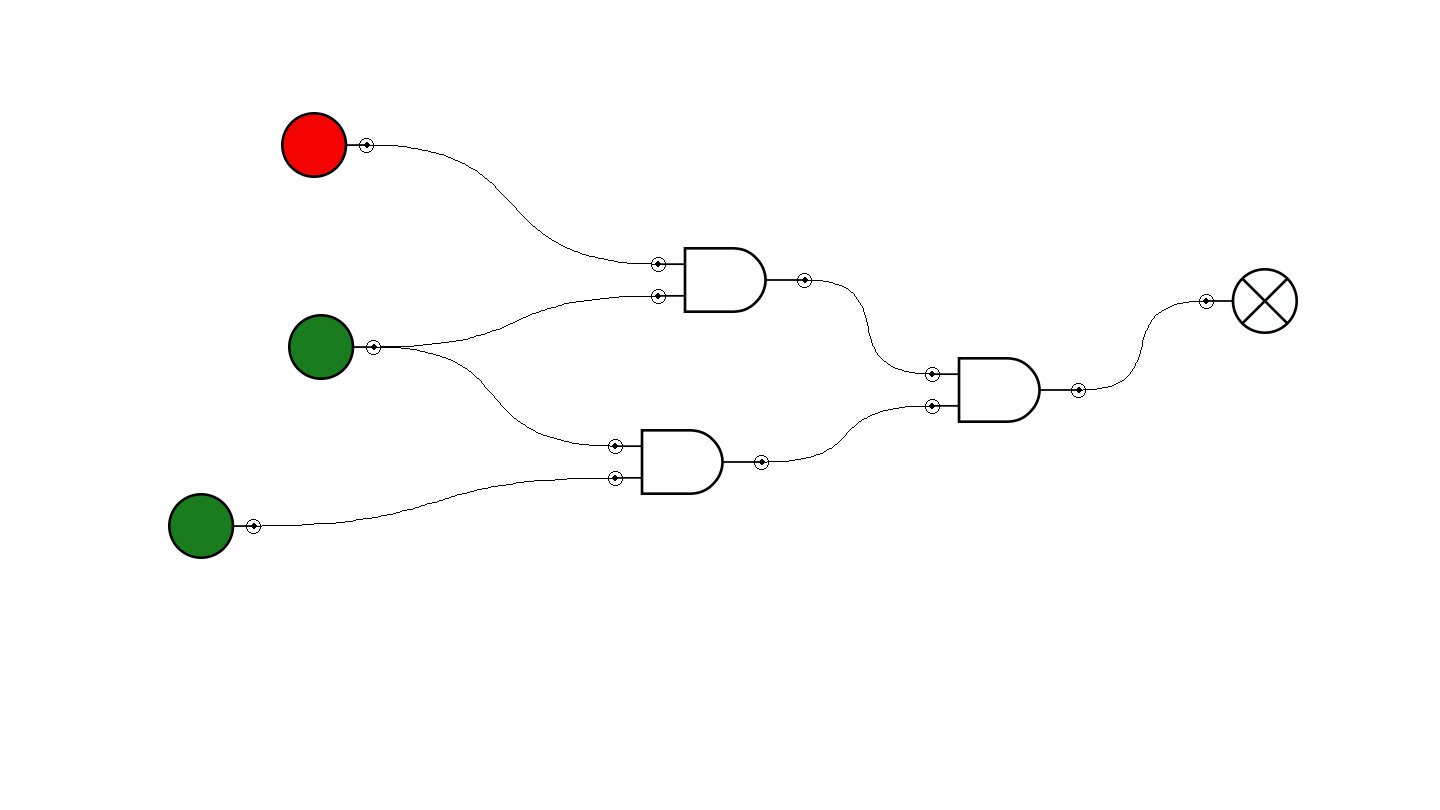and: (925, 357, 1086, 423), (608, 429, 769, 495), (651, 247, 812, 313)
bulb: (1199, 268, 1298, 334)
switch_False: (281, 112, 374, 178)
switch_True: (168, 493, 261, 559), (288, 314, 381, 380)
